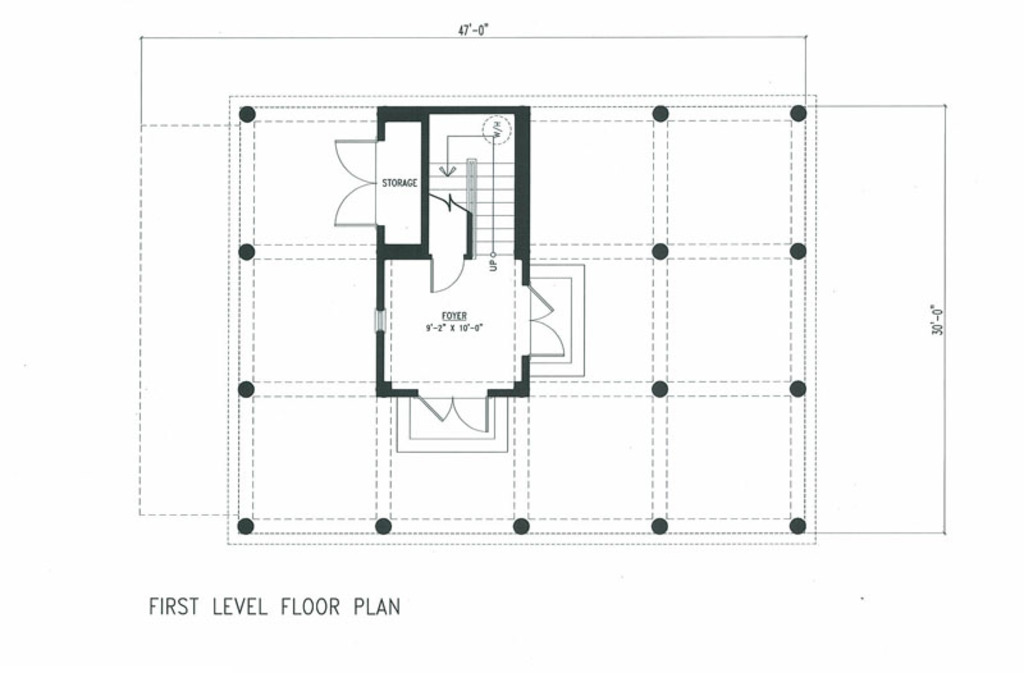door: (333, 136, 381, 228), (409, 388, 493, 433), (526, 282, 570, 358), (426, 253, 467, 293)
stairs: (428, 115, 514, 254)
windows: (373, 307, 388, 336)
